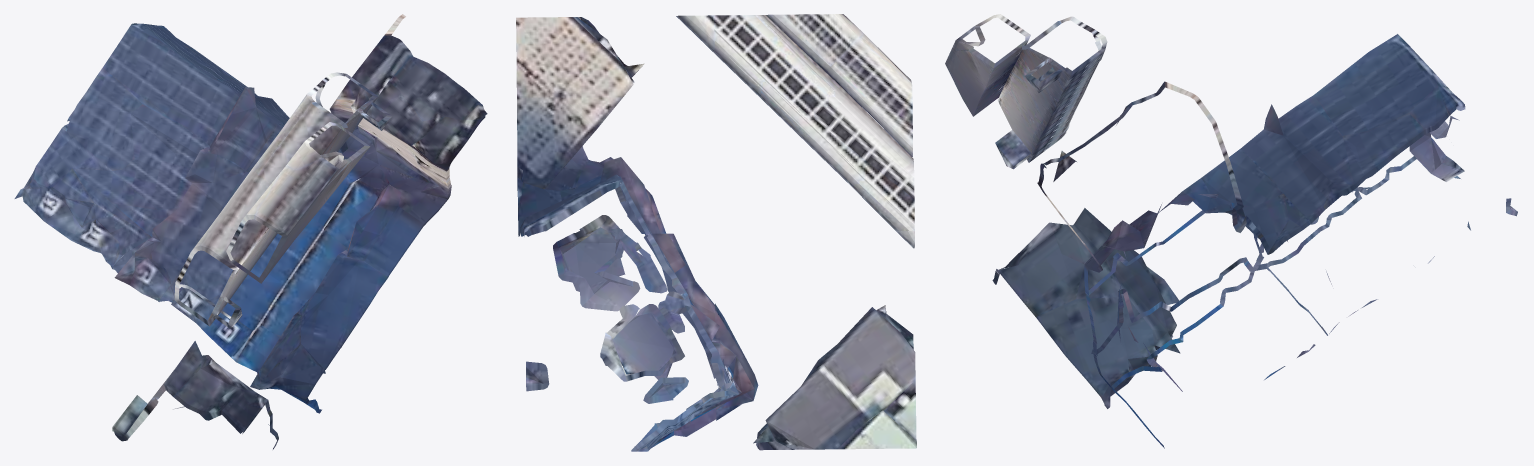
The picture shows the model from 3 angles, left to right: view 1: azimuth 30°, elevation 25°; view 2: azimuth 150°, elevation 25°; view 3: azimuth 270°, elevation 25°; orthographic projection. The views are drawn at different scales.
Size of the model in its own units: 39.15 by 40.55 by 52.03.
Materials: 2 (2 with a texture image).
